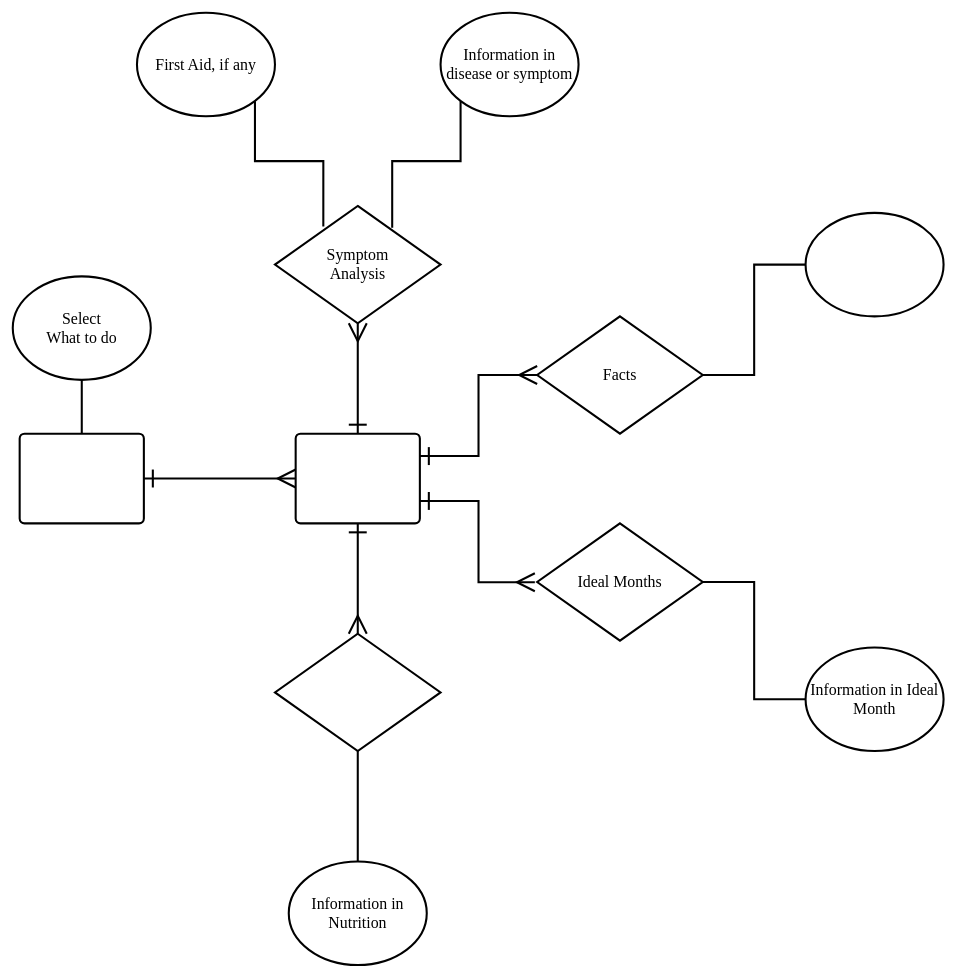
This 956x978 diagram has some shape labels left out. The shapes that lost their labels are listed below. From the top down, each one's centre as x and y in pixels, then its label:
At point (874, 264): "Facts about pigs".
At point (81, 478): "User".
At point (357, 478): "PigCare".
At point (357, 692): "Nutrition".
